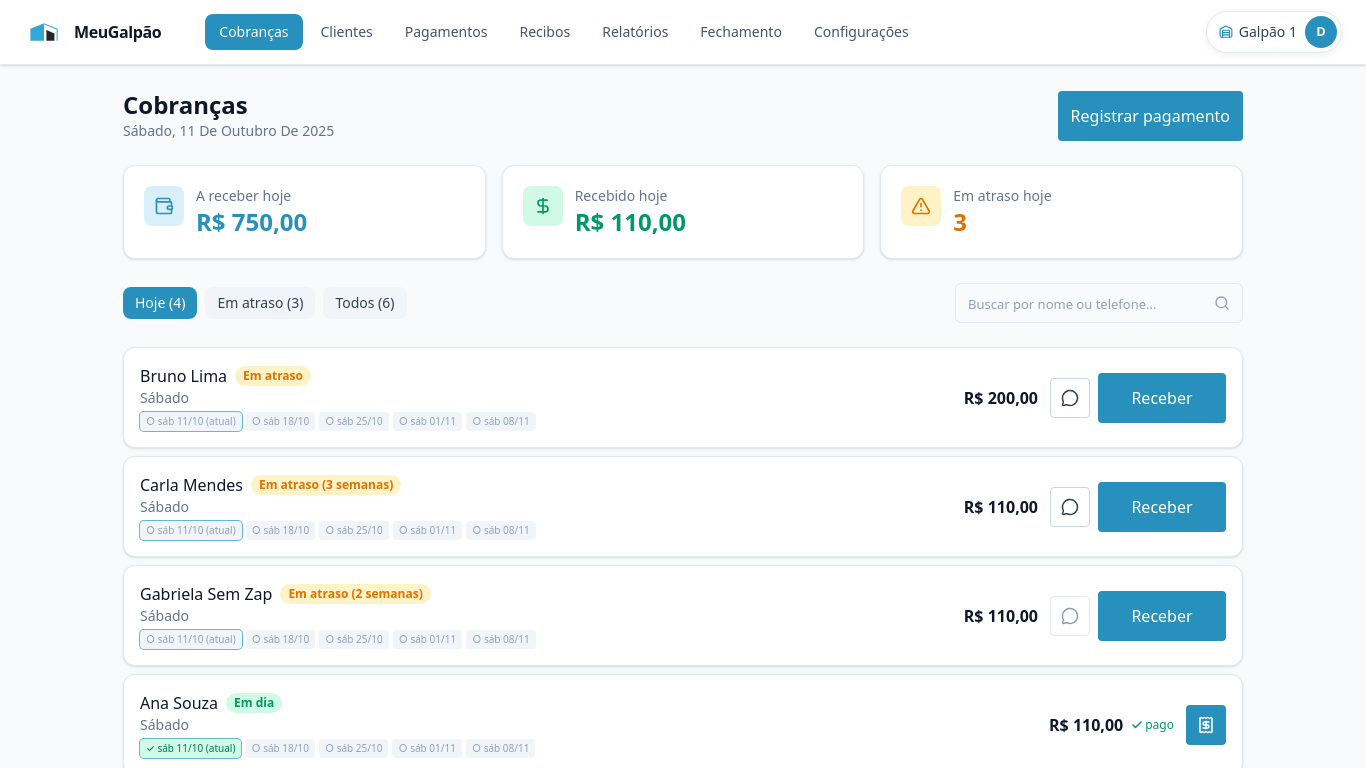
Test case: Menu do perfil › abre com nome, e-mail e cargo; "Maria" aparece como Usuário
The width and height of the screenshot is (1366, 768).
Check: the heading "Cobranças" is shown, box [123,88,248,121]
Step 1. Click the button named "Menu do perfil — " → {"x": 1321, "y": 32}, box [1305,16,1337,48]
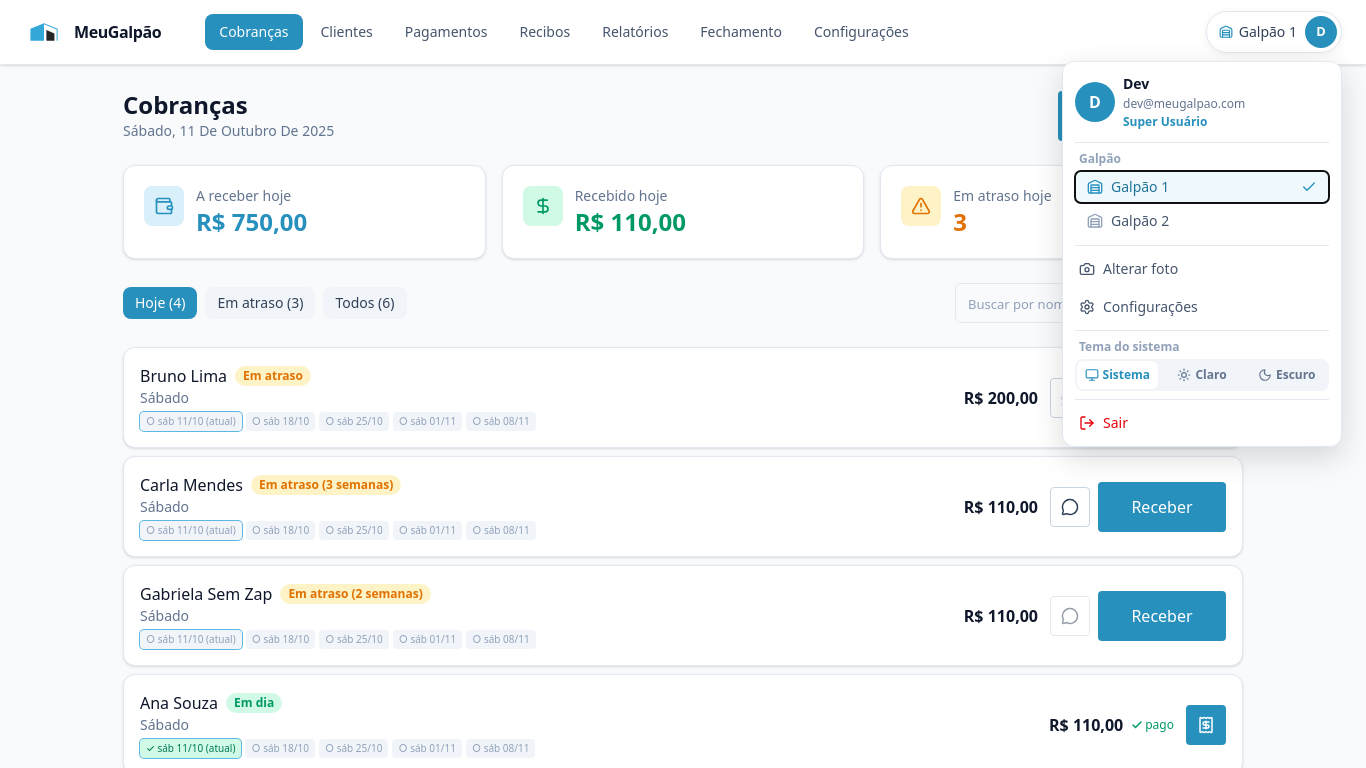
Check: the text "dev@meugalpao.com" is shown, box [1123,96,1245,112]
Check: the text "Super Usuário" is shown, box [1123,113,1208,130]
